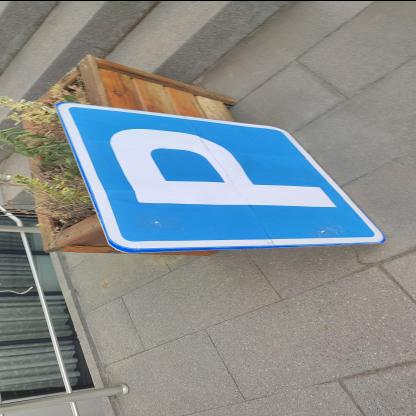Parking-Sign: (57, 102, 386, 252)
